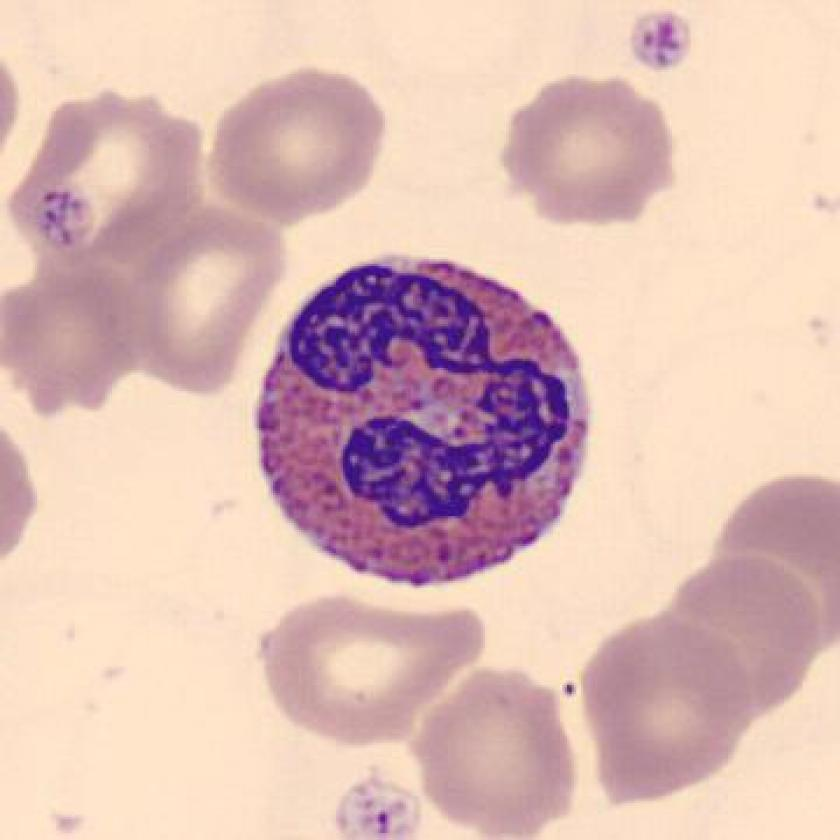eosinophil: (244, 246, 603, 598)
